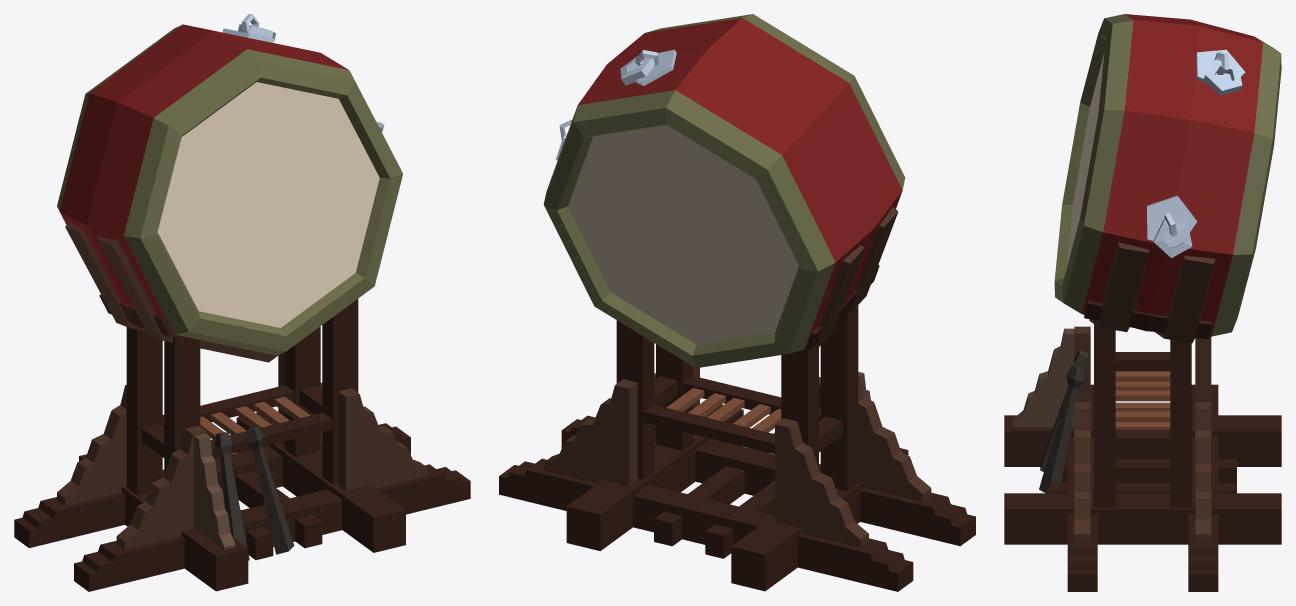
File: Drum  Asia.fbx
3 views of the same model, side by side, from view 1: azimuth 30°, elevation 25°; view 2: azimuth 150°, elevation 25°; view 3: azimuth 270°, elevation 25° (orthographic). The views are drawn at different scales.
Parts seen in each view (by area): view 1: Drum; view 2: Drum; view 3: Drum.
Part boxes in pixels (bbox=[...]): Drum: bbox=[14, 14, 470, 591]; Drum: bbox=[499, 14, 975, 591]; Drum: bbox=[1004, 14, 1281, 591].
Bounding box in the file's own units: 1.16 × 1.38 × 0.7235.
